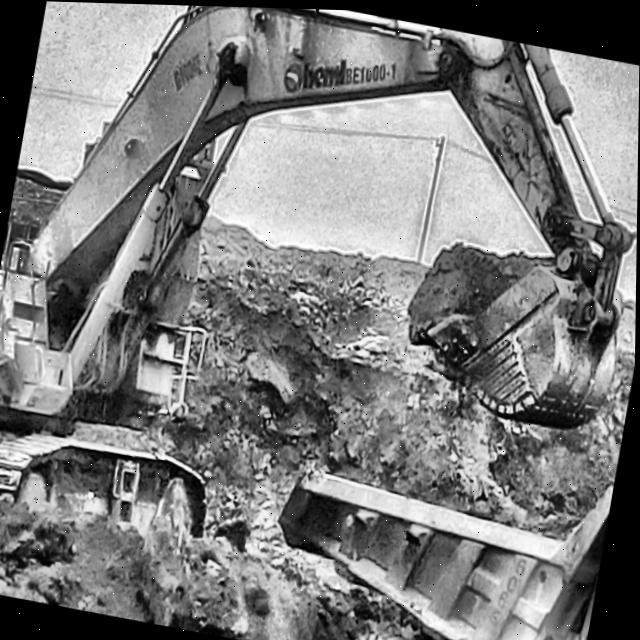dump_truck: (280, 470, 614, 640)
excavator: (0, 4, 636, 534)
